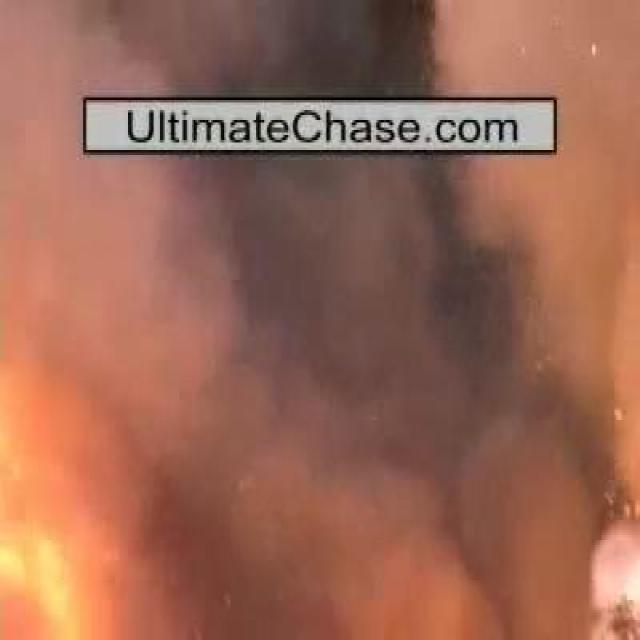Smoke: (134, 162, 546, 590)
